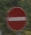No entry: (6, 6, 26, 30)
